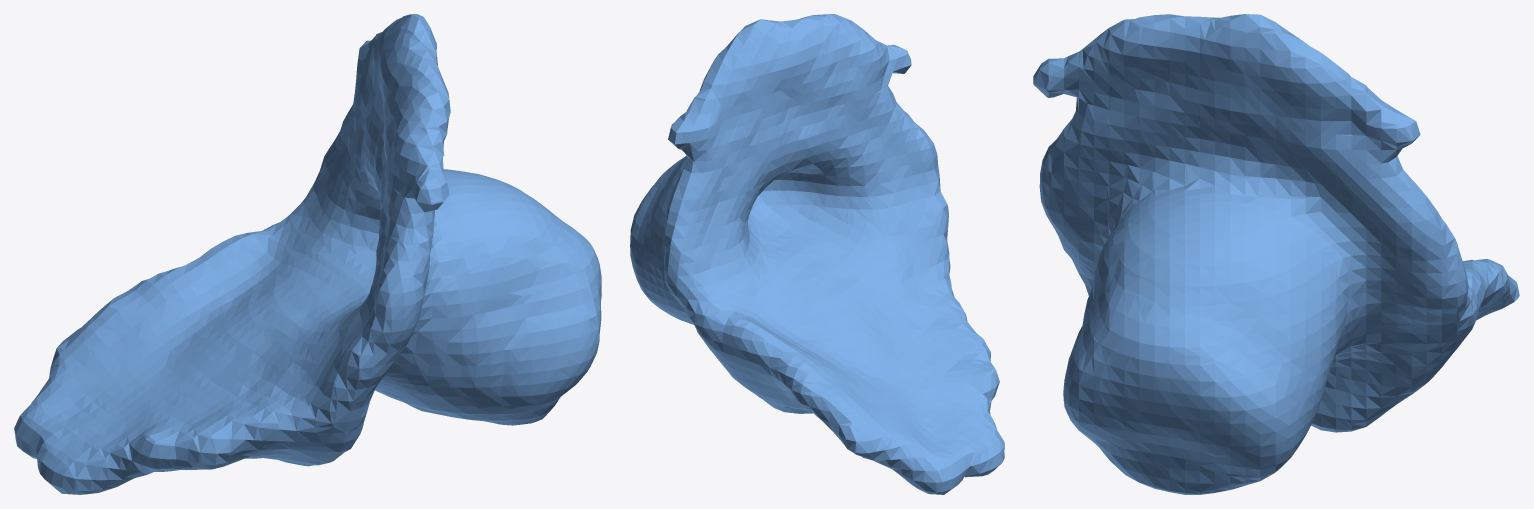
Rendered from water_0023.glb.
3 views of the same model, side by side, from view 1: azimuth 30°, elevation 25°; view 2: azimuth 150°, elevation 25°; view 3: azimuth 270°, elevation 25° (orthographic). The views are drawn at different scales.
Visible parts, largest first — view 1: Water_0023; view 2: Water_0023; view 3: Water_0023.
Part boxes in pixels (<box>): Water_0023: <box>14,14,601,494</box>; Water_0023: <box>630,14,1004,494</box>; Water_0023: <box>1033,14,1519,494</box>.
Bounding box in the file's own units: 2.39 × 2.04 × 1.88.
